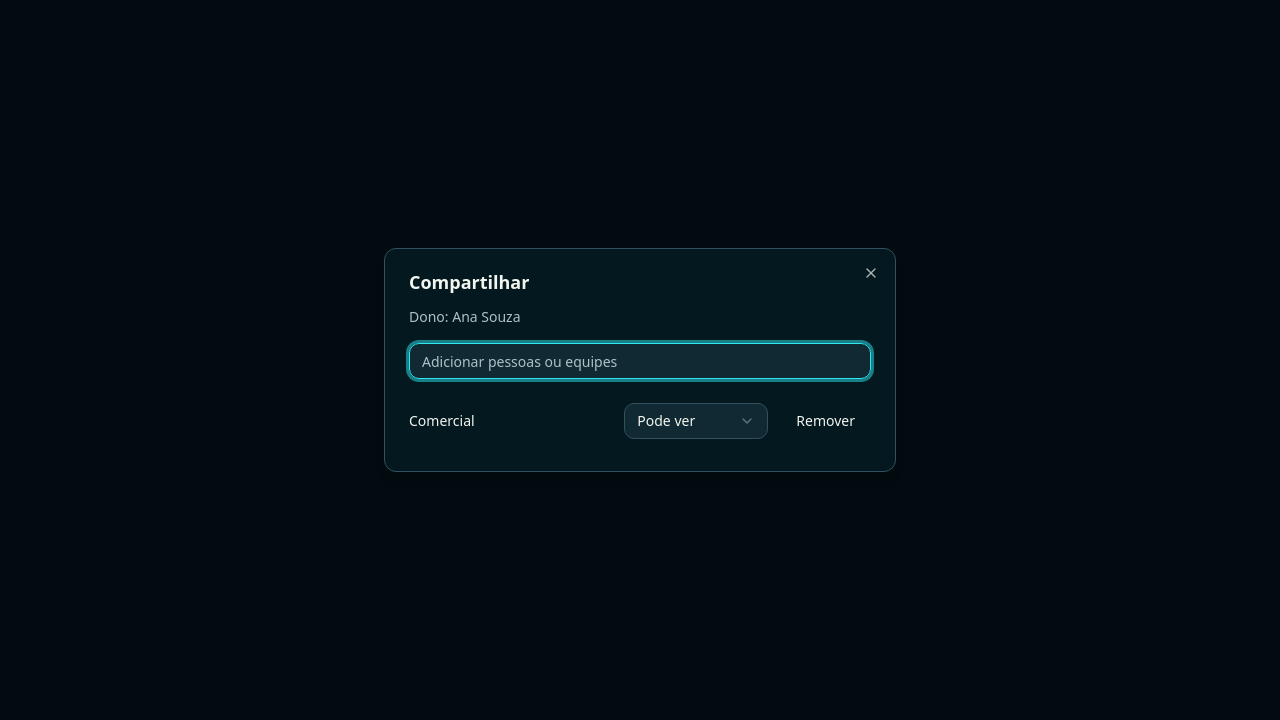
Test: ShareDialog › SHARE-14 falha mantém a lista e mostra Não foi possível atualizar o compartilhamento
Click the dropdown at (696, 421), box [624, 403, 768, 439]
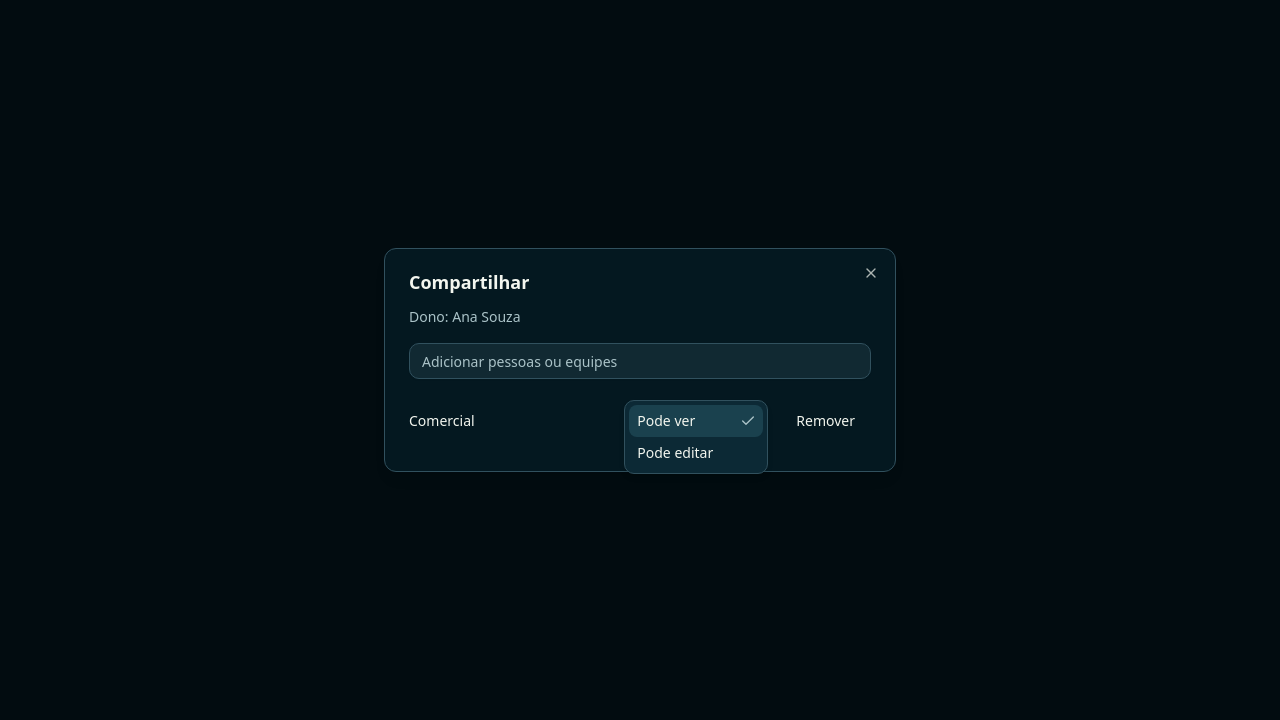
Click the option "Pode editar" at (675, 452), box [637, 443, 713, 462]
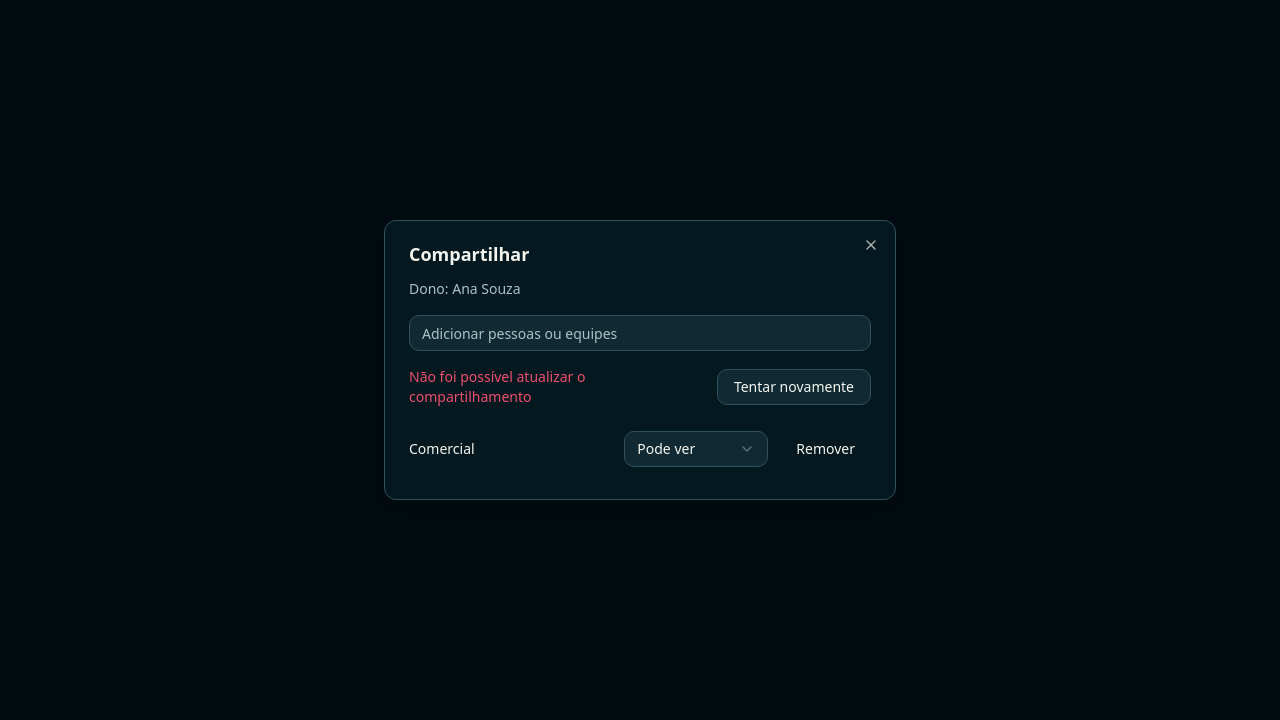
Expected: the dropdown reads "Pode ver", [624, 431, 768, 467]
Result: the text "Não foi possível atualizar o compartilhamento" is shown at [409, 367, 586, 406]
